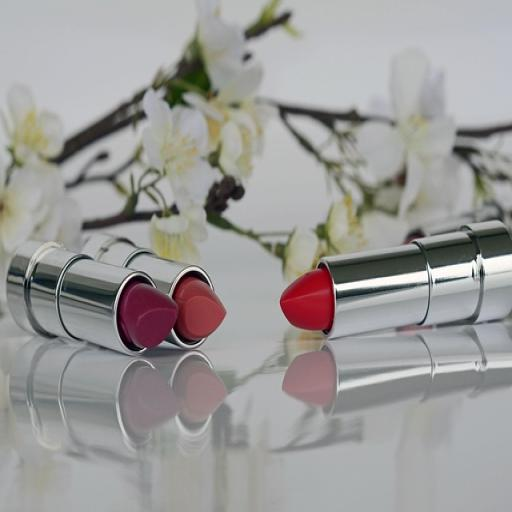lipstick: (280, 221, 511, 338), (283, 323, 511, 414), (10, 337, 179, 459), (7, 242, 177, 353), (83, 234, 225, 348), (149, 349, 227, 454), (406, 203, 511, 242)
